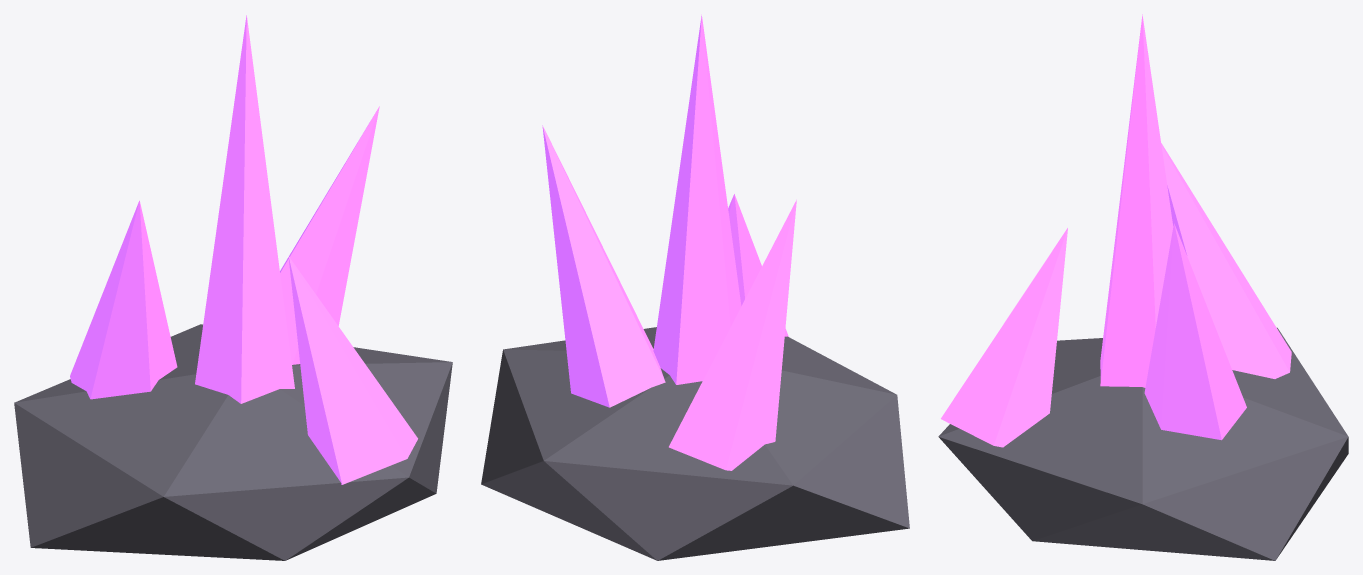
Rendered from CrystalCluster.fbx.
The picture shows the model from 3 angles, left to right: view 1: azimuth 30°, elevation 25°; view 2: azimuth 150°, elevation 25°; view 3: azimuth 270°, elevation 25°; orthographic projection. The views are drawn at different scales.
Parts seen in each view (by area): view 1: Base, Crystals; view 2: Base, Crystals; view 3: Base, Crystals.
Part boxes in pixels (<box>): Base: <box>14,324,452,560</box>; Crystals: <box>70,15,417,484</box>; Base: <box>481,327,909,560</box>; Crystals: <box>542,14,796,470</box>; Base: <box>938,327,1348,560</box>; Crystals: <box>941,14,1291,447</box>.
Bounding box in the file's own units: 3.42 × 4 × 2.93.
